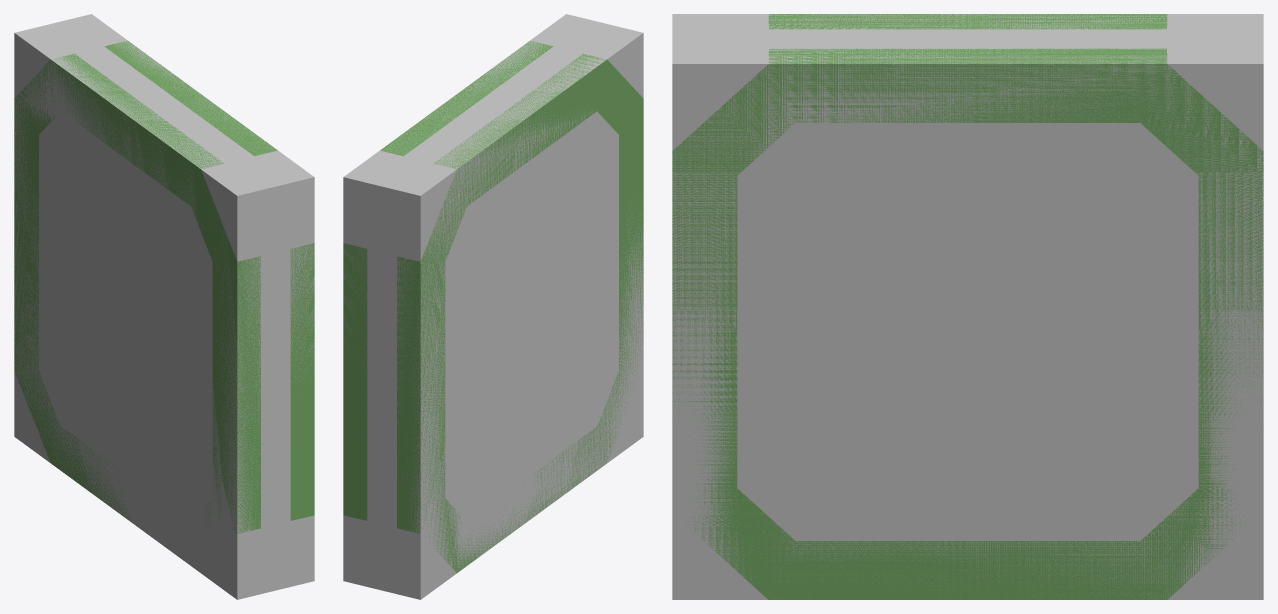
Rendered from SM_Billboard_05.fbx.
3 views of the same model, side by side, from view 1: azimuth 30°, elevation 25°; view 2: azimuth 150°, elevation 25°; view 3: azimuth 270°, elevation 25° (orthographic). The views are drawn at different scales.
Parts seen in each view (by area): view 1: SM_Billboard_05_ConvexHulls, SM_Billboard_05; view 2: SM_Billboard_05_ConvexHulls, SM_Billboard_05; view 3: SM_Billboard_05_ConvexHulls, SM_Billboard_05.
Boxes of the visible parts, bbox=[...] form: SM_Billboard_05_ConvexHulls: bbox=[14, 14, 314, 599]; SM_Billboard_05: bbox=[14, 41, 314, 534]; SM_Billboard_05_ConvexHulls: bbox=[343, 14, 643, 599]; SM_Billboard_05: bbox=[343, 41, 643, 572]; SM_Billboard_05_ConvexHulls: bbox=[672, 14, 1263, 599]; SM_Billboard_05: bbox=[672, 14, 1263, 599].
Bounding box in the file's own units: 42 × 210 × 210.
2 materials, 1 textured.
